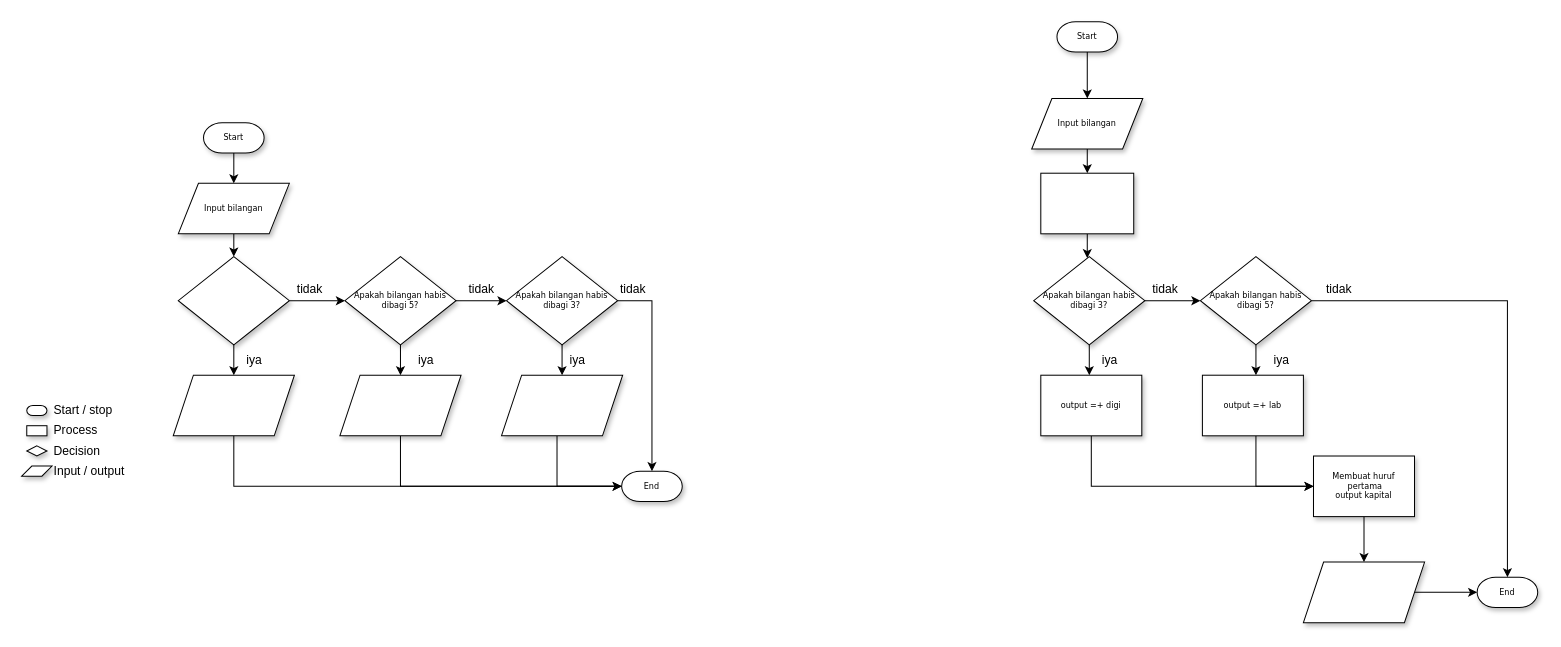
Image size: 1561x647. Some labels were removed from this diagram. Each missing label, with the centre of its shape:
"Apakah bilangan habis dibagi 15?" goes at [234,301].
"Mendeklarasi variabel output" goes at [1088,204].
"Tampilkan Digi" goes at [562,406].
"Tampilkan Digilab" goes at [234,406].
"Tampilkan Lab" goes at [401,406].
"Tampilkan Output" goes at [1364,593].
